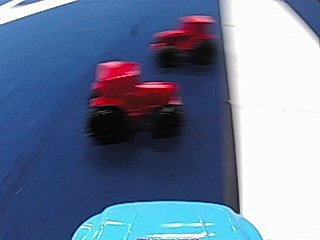tractor: (83, 53, 187, 142), (147, 17, 219, 67)
